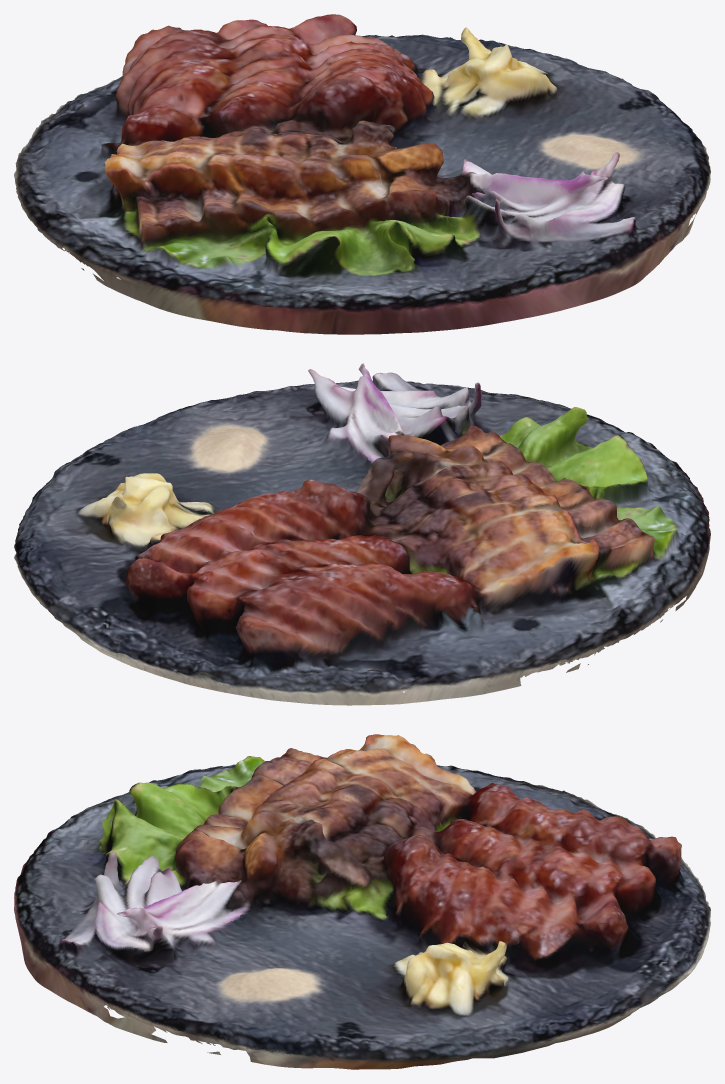
The model's file is bbq.glb.
3 views of the same model, one above another, from view 1: azimuth 30°, elevation 25°; view 2: azimuth 150°, elevation 25°; view 3: azimuth 270°, elevation 25° (orthographic).
Parts seen in each view (by area): view 1: Object_2, Object_3; view 2: Object_2, Object_3; view 3: Object_2, Object_3.
Boxes of the visible parts, x1,y1,x2,y2 form: Object_2: (14, 14, 710, 312); Object_3: (23, 14, 709, 334); Object_2: (14, 363, 708, 705); Object_3: (14, 372, 710, 705); Object_2: (19, 735, 710, 1069); Object_3: (14, 734, 708, 1061).
Bounding box in the file's own units: 0.3 × 0.0443 × 0.2998.
Materials: 1 (1 with a texture image).
